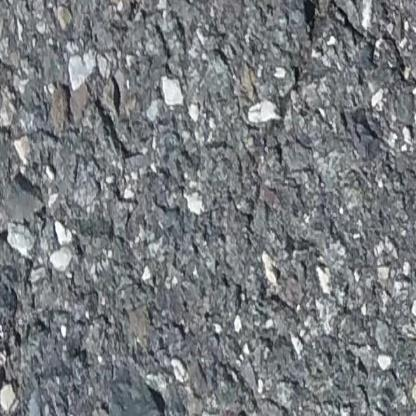Cracks: (345, 0, 416, 98), (307, 0, 324, 4)
